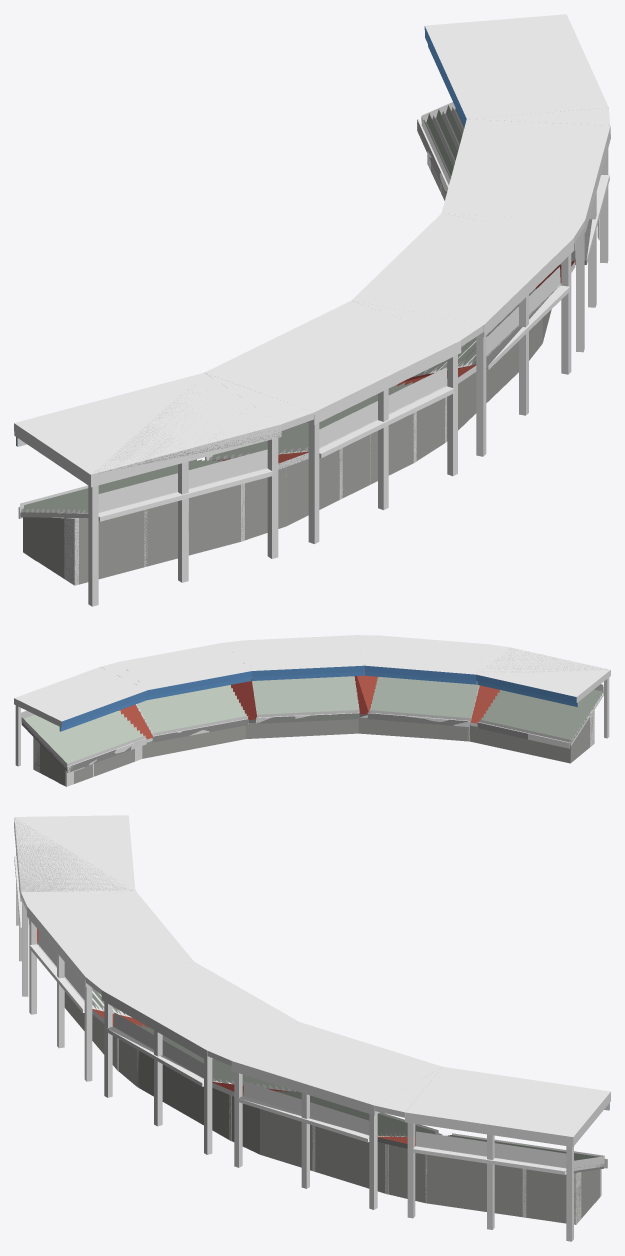
File: grandstandb.dae
3 renders of one model, top to bottom at view 1: azimuth 30°, elevation 25°; view 2: azimuth 150°, elevation 25°; view 3: azimuth 270°, elevation 25°, orthographic. The views are drawn at different scales.
Visible parts, largest first — view 1: grandstandb_a1000, grandstandb_a250, grandstandb_a500; view 2: grandstandb_a1000, grandstandb_a250; view 3: grandstandb_a1000, grandstandb_a250, grandstandb_a500.
Part boxes in pixels (x1,y1,x2,y2): grandstandb_a1000: (14, 14, 610, 606); grandstandb_a250: (22, 109, 592, 584); grandstandb_a500: (64, 260, 586, 584); grandstandb_a1000: (14, 635, 610, 786); grandstandb_a250: (21, 648, 607, 785); grandstandb_a1000: (14, 815, 610, 1241); grandstandb_a250: (14, 817, 604, 1224); grandstandb_a500: (117, 1047, 581, 1224).
Size of the model in its own units: 97.22 by 76.14 by 14.83.
